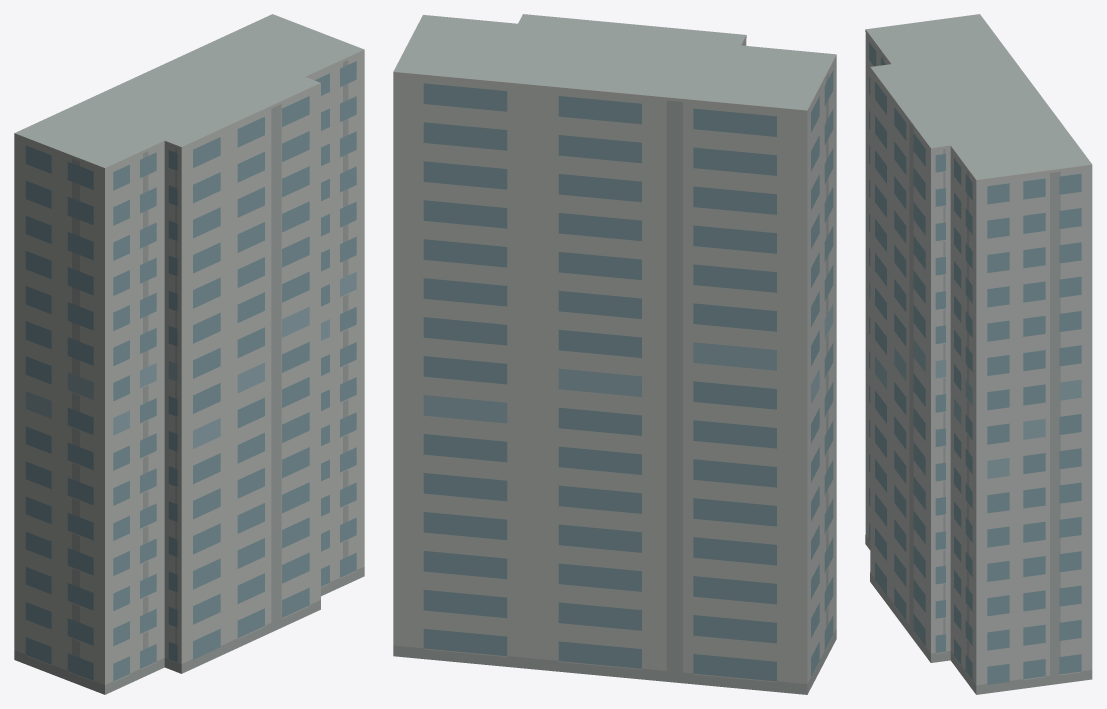
File: residential-9966df71-c6f5-4915-95e7-ae1934d1c6b8.glb
3 renders of one model, left to right at view 1: azimuth 30°, elevation 25°; view 2: azimuth 150°, elevation 25°; view 3: azimuth 270°, elevation 25°, orthographic. The views are drawn at different scales.
Visible parts, largest first — view 1: residential-9966df71-c6f5-4915-95e7-ae1934d1c6b8.tmp; view 2: residential-9966df71-c6f5-4915-95e7-ae1934d1c6b8.tmp; view 3: residential-9966df71-c6f5-4915-95e7-ae1934d1c6b8.tmp.
Part boxes in pixels (x1,y1,x2,y2): residential-9966df71-c6f5-4915-95e7-ae1934d1c6b8.tmp: (14,14,364,694); residential-9966df71-c6f5-4915-95e7-ae1934d1c6b8.tmp: (393,14,836,694); residential-9966df71-c6f5-4915-95e7-ae1934d1c6b8.tmp: (865,14,1092,694).
Size of the model in its own units: 31.67 by 45.75 by 18.29.
